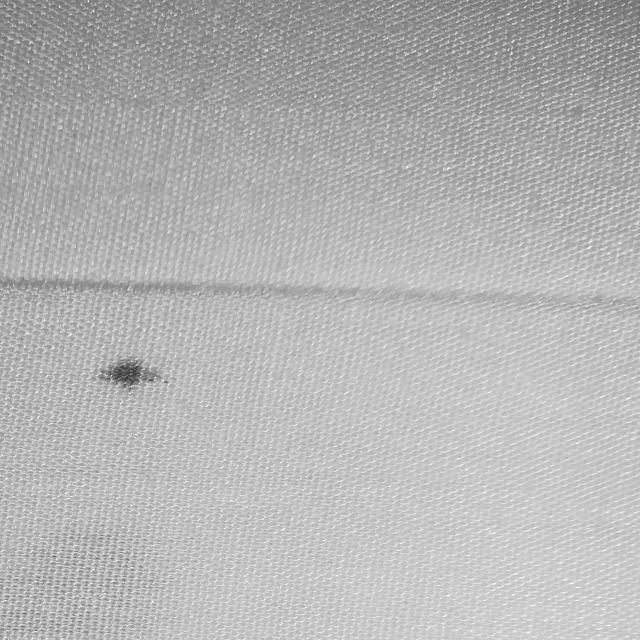Line: (0, 277, 639, 311)
